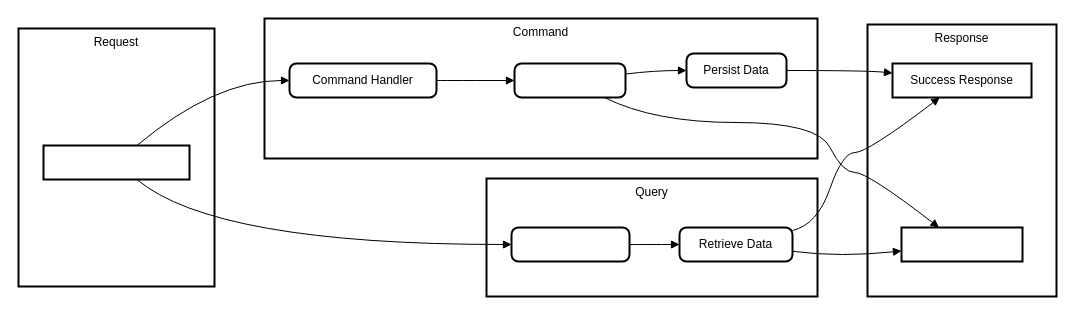
Image size: 1074x314. Some labels were removed from this diagram. The shapes that lost their labels are listed below. From the top down, each one's box as (x1, y1, x2, y2) in pixels, then its label:
(513, 62, 626, 98): Validate Data
(42, 144, 190, 180): API REST endpoint
(510, 226, 630, 262): Query Handler
(900, 226, 1023, 262): Error Response
